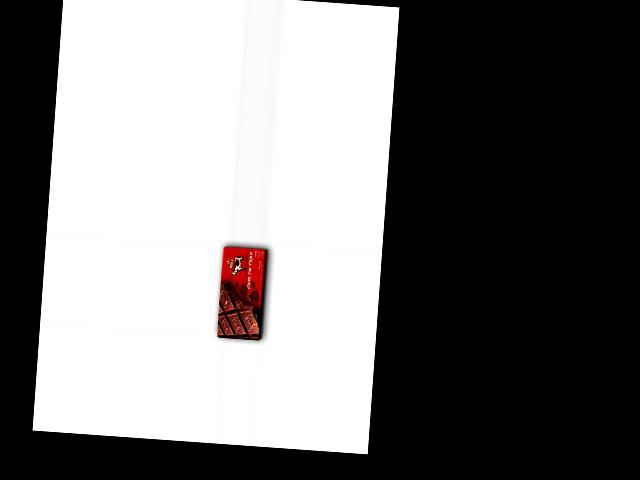chocolate: (214, 243, 270, 342)
